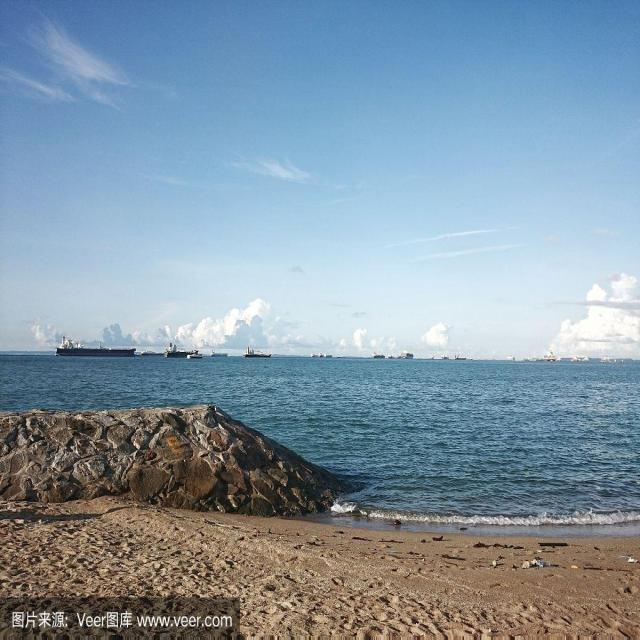cargoship: (41, 327, 140, 360), (162, 334, 201, 367), (242, 343, 278, 369)
reef: (12, 409, 367, 553)
